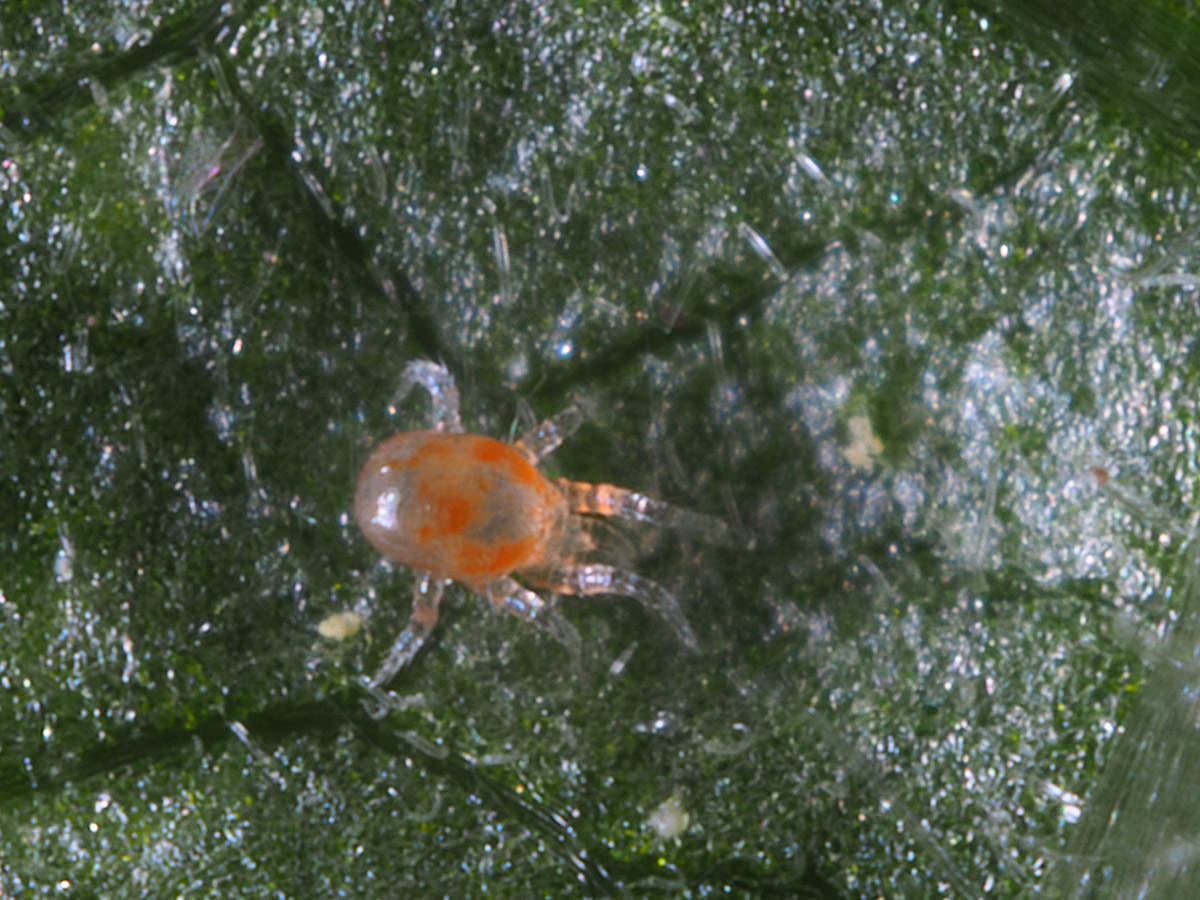Mites: (302, 356, 785, 733)
